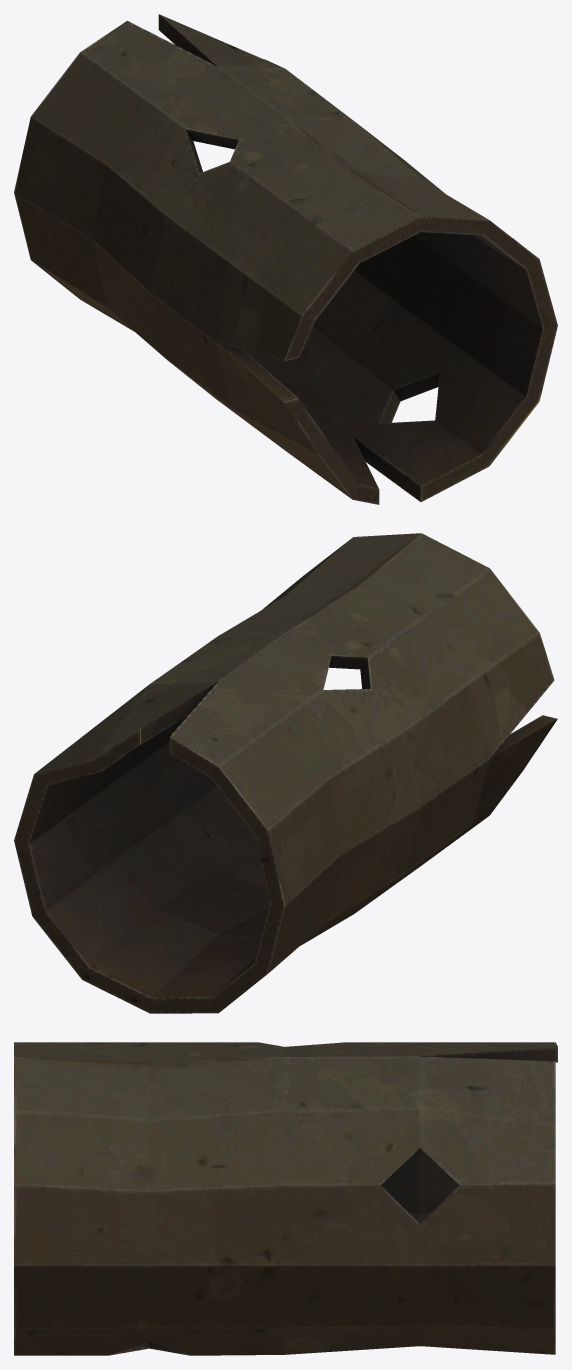
Rendered from SlagPipe.glb.
3 renders of one model, top to bottom at view 1: azimuth 30°, elevation 25°; view 2: azimuth 150°, elevation 25°; view 3: azimuth 270°, elevation 25°, orthographic.
Parts seen in each view (by area): view 1: SlagPipe; view 2: SlagPipe; view 3: SlagPipe.
Boxes of the visible parts, bbox=[...] form: SlagPipe: bbox=[14, 14, 557, 504]; SlagPipe: bbox=[14, 533, 557, 1013]; SlagPipe: bbox=[14, 1042, 557, 1355].
Bounding box in the file's own units: 0.3711 × 0.3711 × 0.6413.
1 material, 1 textured.
